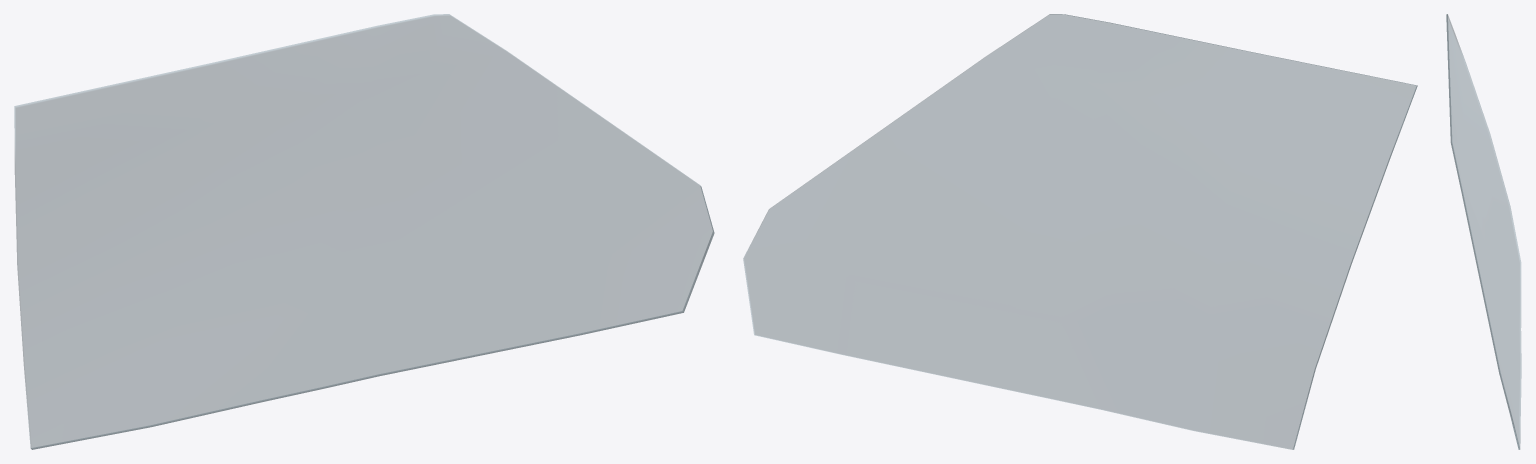
3 renders of one model, left to right at view 1: azimuth 30°, elevation 25°; view 2: azimuth 150°, elevation 25°; view 3: azimuth 270°, elevation 25°, orthographic. The views are drawn at different scales.
Parts seen in each view (by area): view 1: SM_NissanPatrol_Door_FL_Glass_Ext2; view 2: SM_NissanPatrol_Door_FL_Glass_Ext2; view 3: SM_NissanPatrol_Door_FL_Glass_Ext2.
Boxes of the visible parts, x1,y1,x2,y2 form: SM_NissanPatrol_Door_FL_Glass_Ext2: [14, 14, 714, 449]; SM_NissanPatrol_Door_FL_Glass_Ext2: [743, 14, 1417, 449]; SM_NissanPatrol_Door_FL_Glass_Ext2: [1446, 14, 1521, 449].
Size of the model in its own units: 0.9364 by 0.5124 by 0.1471.
